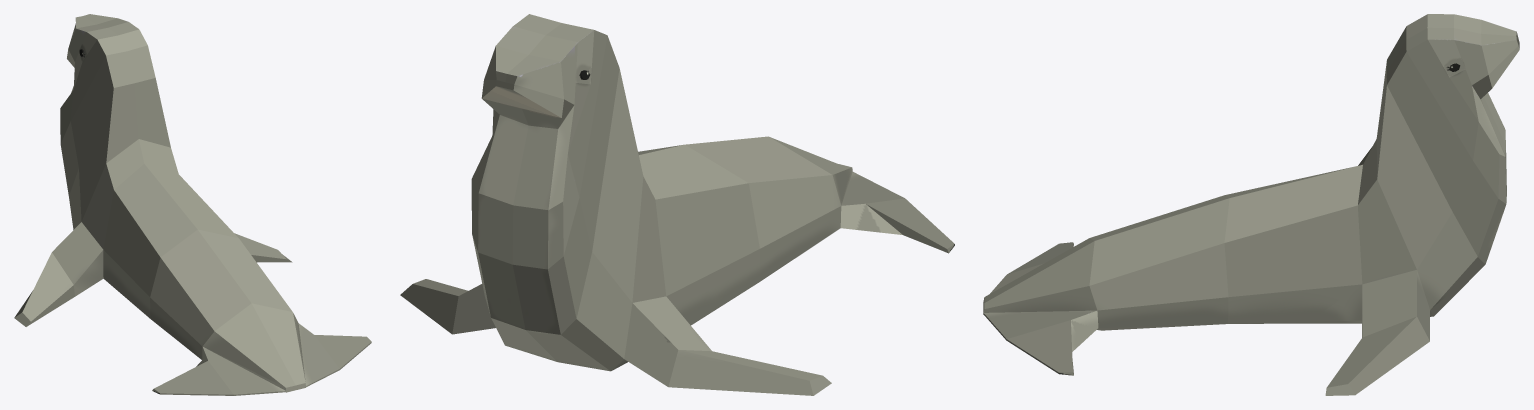
File: sealcolored.fbx
The picture shows the model from 3 angles, left to right: view 1: azimuth 30°, elevation 25°; view 2: azimuth 150°, elevation 25°; view 3: azimuth 270°, elevation 25°; orthographic projection. The views are drawn at different scales.
Parts seen in each view (by area): view 1: Cube; view 2: Cube; view 3: Cube.
Part boxes in pixels (x1,y1,x2,y2): Cube: [14, 14, 371, 395]; Cube: [400, 14, 954, 395]; Cube: [983, 14, 1519, 395].
Bounding box in the file's own units: 234 × 327 × 193.
Materials: 1 (1 with a texture image).
